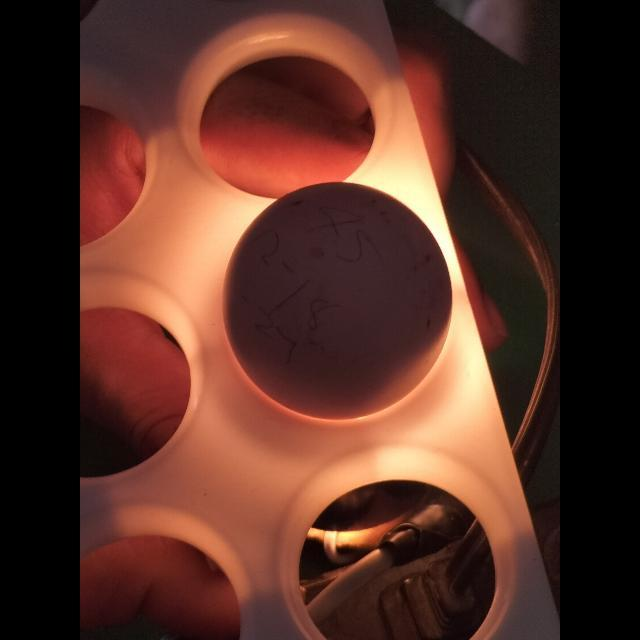B - Fair: (226, 184, 448, 416)
